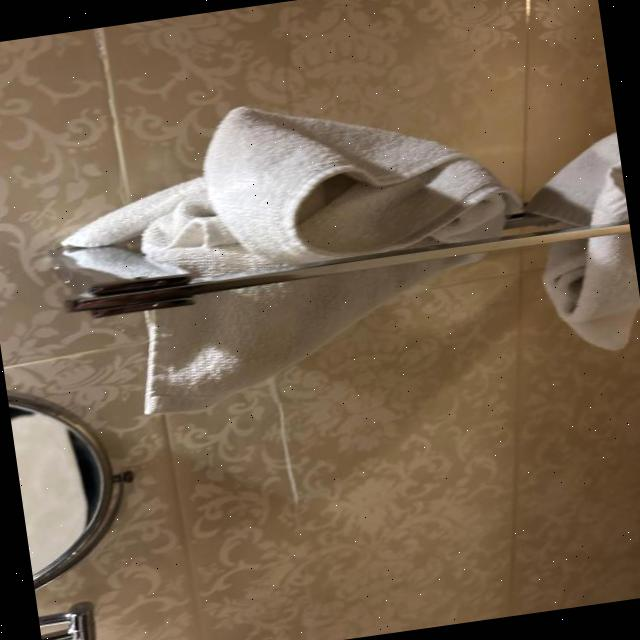disorganized_towel: (52, 106, 519, 425), (518, 131, 640, 360)
